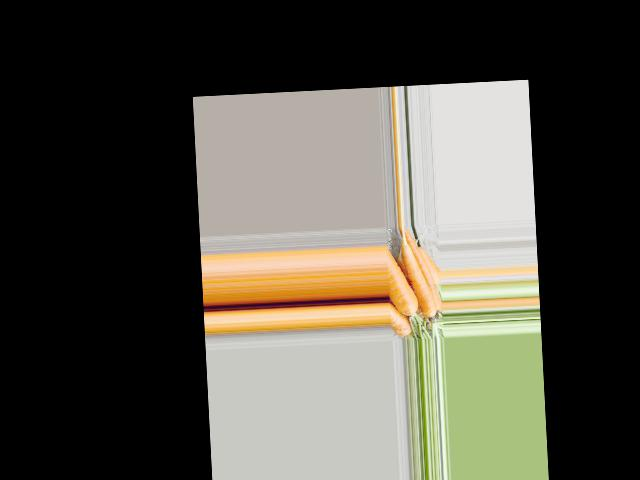carrot: (388, 294, 411, 322)
